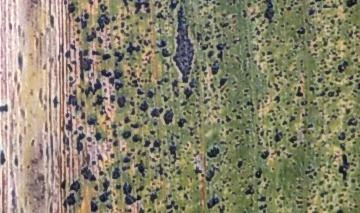tarspot: (170, 6, 195, 84), (78, 46, 92, 83), (121, 181, 140, 205), (108, 66, 125, 91), (78, 164, 97, 184), (338, 152, 349, 186), (262, 1, 276, 27), (203, 164, 222, 183), (73, 131, 88, 155), (132, 1, 153, 17), (133, 158, 149, 178), (95, 12, 110, 31), (162, 106, 176, 126), (99, 179, 111, 202), (91, 92, 108, 108), (204, 195, 223, 209), (204, 144, 221, 159), (68, 176, 82, 194), (125, 40, 140, 56), (215, 41, 228, 59), (165, 144, 178, 162), (113, 47, 126, 65), (335, 58, 350, 73), (257, 147, 273, 161), (61, 193, 78, 206), (149, 105, 163, 120), (64, 1, 78, 16), (243, 182, 257, 197), (207, 60, 221, 75), (49, 93, 61, 110), (63, 116, 74, 134), (65, 94, 79, 108), (270, 130, 285, 143), (155, 9, 170, 22), (57, 177, 69, 193), (110, 163, 120, 182), (137, 99, 150, 113), (147, 190, 160, 204), (181, 85, 193, 100), (88, 198, 100, 213), (154, 38, 169, 50), (176, 115, 188, 130), (342, 1, 359, 11), (93, 76, 103, 93), (305, 5, 318, 18), (115, 94, 127, 108), (83, 29, 97, 41), (251, 167, 265, 179), (164, 200, 179, 211), (97, 1, 110, 13), (287, 132, 299, 145), (293, 85, 305, 98), (295, 24, 307, 37), (345, 116, 358, 128), (158, 47, 172, 58), (335, 130, 346, 144), (234, 158, 246, 170), (313, 74, 325, 86), (92, 130, 103, 143), (121, 114, 132, 127), (89, 48, 103, 58), (103, 51, 113, 65), (1, 102, 12, 114), (192, 165, 204, 176), (93, 151, 105, 162), (271, 93, 282, 105), (199, 41, 211, 52), (159, 92, 170, 104), (61, 48, 74, 58), (120, 163, 133, 173), (150, 139, 163, 149), (1, 151, 8, 169), (121, 129, 132, 140), (95, 167, 106, 178), (100, 67, 110, 79), (223, 113, 233, 125), (218, 76, 227, 89), (256, 193, 267, 203), (325, 88, 335, 99), (245, 99, 255, 110), (134, 184, 146, 193), (80, 109, 88, 122), (108, 130, 121, 138), (144, 87, 154, 97), (323, 67, 333, 77), (110, 138, 120, 148), (81, 11, 92, 20), (106, 13, 117, 22), (108, 151, 117, 162), (73, 15, 82, 25), (233, 113, 243, 122), (134, 88, 145, 96), (110, 122, 119, 131), (114, 181, 122, 191), (203, 33, 211, 43), (93, 183, 100, 192)
